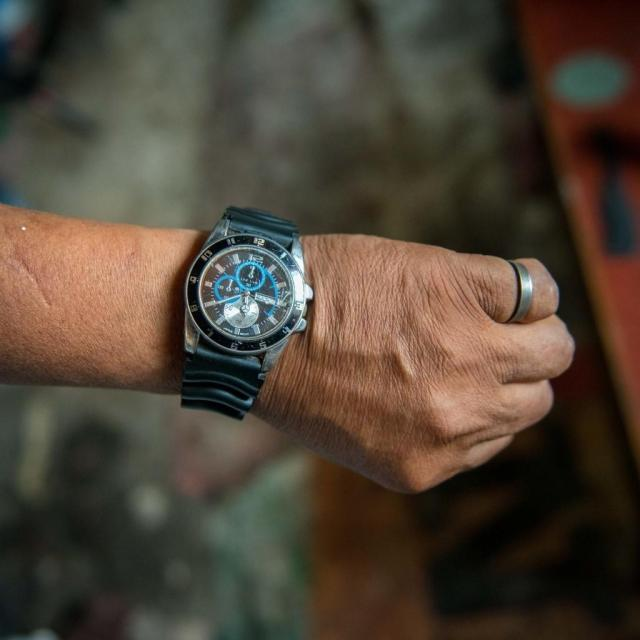Wrist watch: (174, 195, 310, 426)
